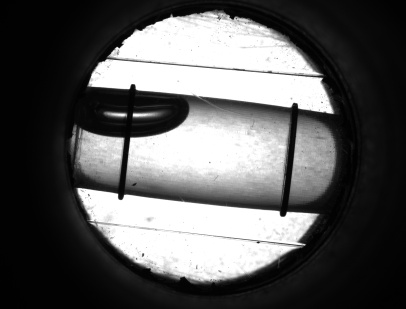line: (278, 123, 300, 195), (115, 144, 133, 179)
